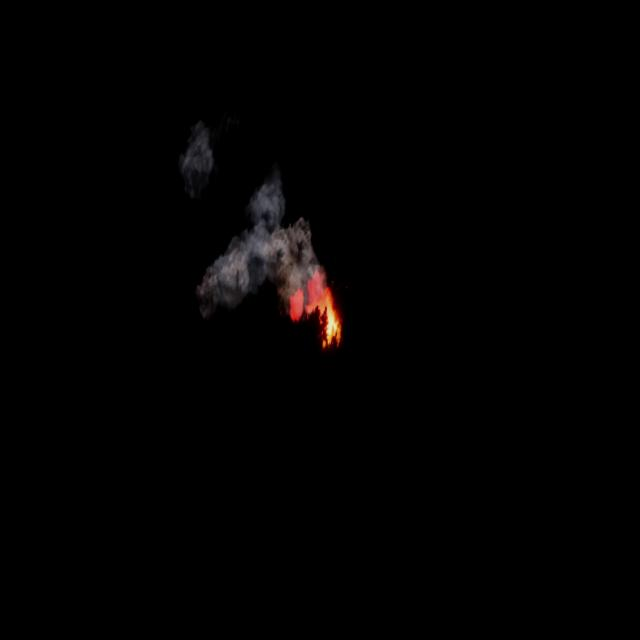fire: (284, 269, 349, 351)
smoke: (189, 154, 348, 340), (175, 110, 215, 212)
